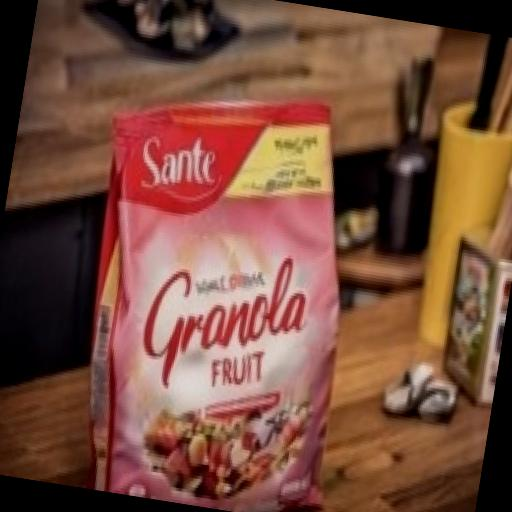granola: (33, 57, 411, 512)
